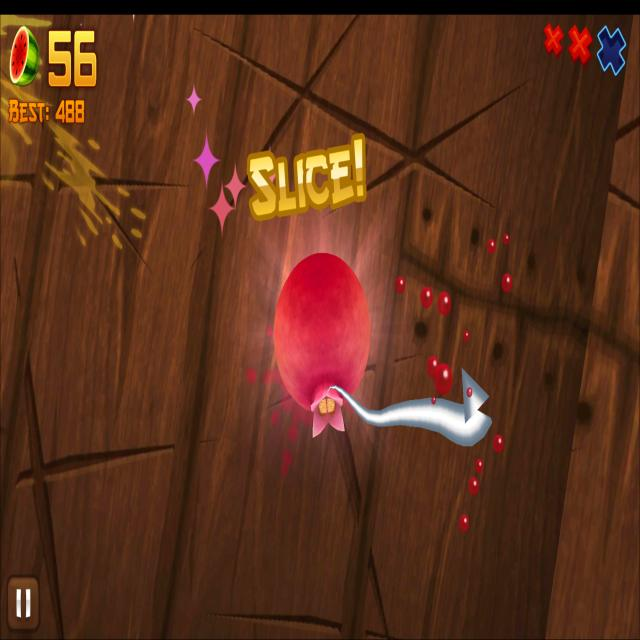fruit: (274, 252, 372, 411)
